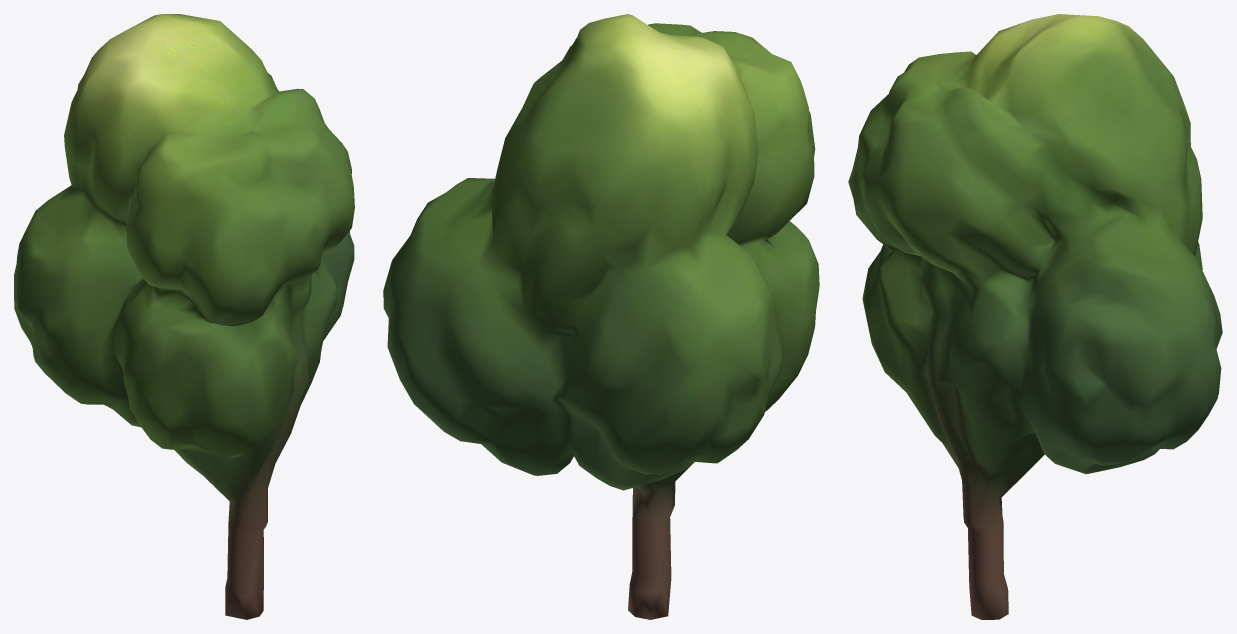
Rendered from tree_tall.glb.
The picture shows the model from 3 angles, left to right: view 1: azimuth 30°, elevation 25°; view 2: azimuth 150°, elevation 25°; view 3: azimuth 270°, elevation 25°; orthographic projection. The views are drawn at different scales.
Parts seen in each view (by area): view 1: tripo_node_01a21d09-2676-7e67-8832-73ad272b66bc; view 2: tripo_node_01a21d09-2676-7e67-8832-73ad272b66bc; view 3: tripo_node_01a21d09-2676-7e67-8832-73ad272b66bc.
Boxes of the visible parts, box(x1,y1,x2,y2) form: tripo_node_01a21d09-2676-7e67-8832-73ad272b66bc: box(14, 14, 354, 619); tripo_node_01a21d09-2676-7e67-8832-73ad272b66bc: box(383, 14, 819, 619); tripo_node_01a21d09-2676-7e67-8832-73ad272b66bc: box(848, 14, 1222, 619).
Bounding box in the file's own units: 5.12 × 8.5 × 4.96.
Materials: 1 (1 with a texture image).
